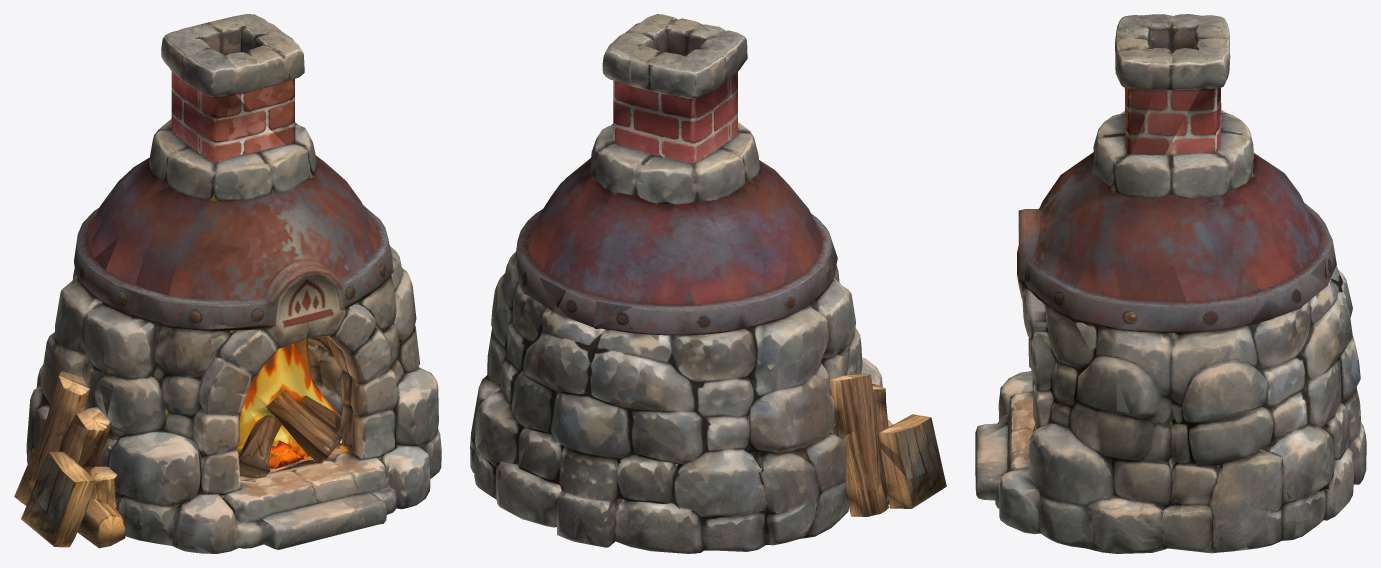
File: furnace_meshy6.glb
3 views of the same model, side by side, from view 1: azimuth 30°, elevation 25°; view 2: azimuth 150°, elevation 25°; view 3: azimuth 270°, elevation 25° (orthographic).
Parts seen in each view (by area): view 1: Mesh_0.002; view 2: Mesh_0.002; view 3: Mesh_0.002.
Part boxes in pixels (<box>): Mesh_0.002: <box>14,14,441,553</box>; Mesh_0.002: <box>470,14,946,553</box>; Mesh_0.002: <box>975,14,1366,553</box>.
Size of the model in its own units: 1.73 by 1.8 by 1.46.
1 material, 1 textured.
